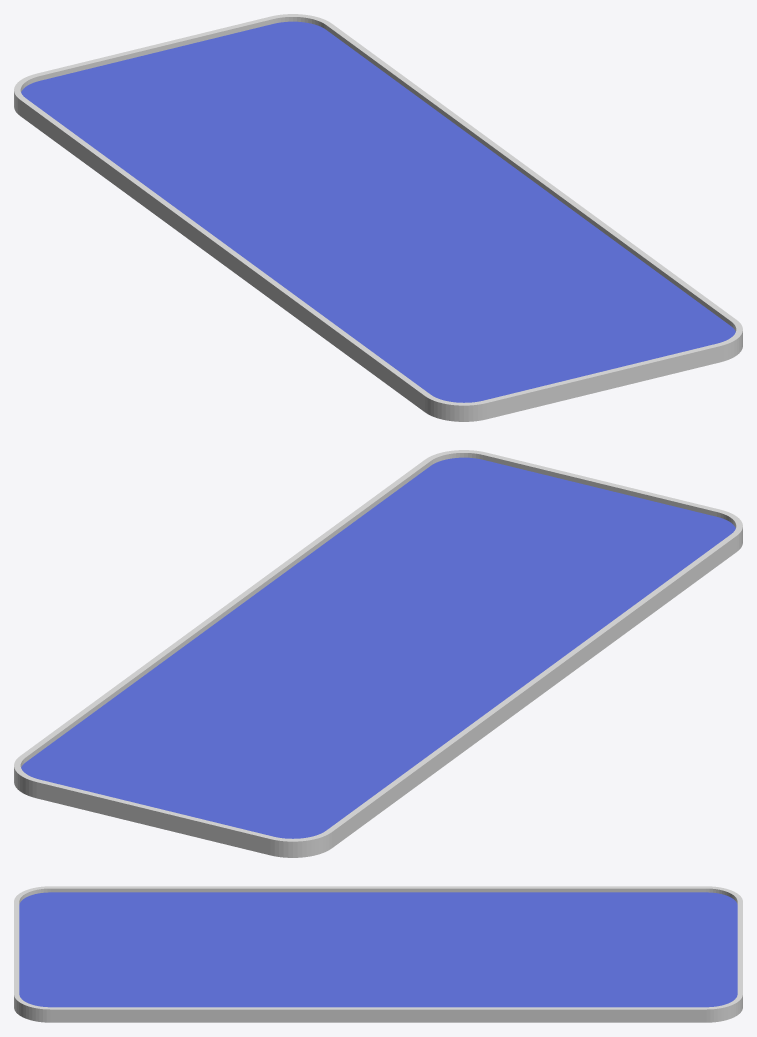
File: Panel2.fbx
The picture shows the model from 3 angles, top to bottom: view 1: azimuth 30°, elevation 25°; view 2: azimuth 150°, elevation 25°; view 3: azimuth 270°, elevation 25°; orthographic projection. The views are drawn at different scales.
Visible parts, largest first — view 1: Panel.001; view 2: Panel.001; view 3: Panel.001.
Part boxes in pixels (x1=…): Panel.001: x1=14, y1=14, x2=742, y2=421; Panel.001: x1=14, y1=450, x2=742, y2=857; Panel.001: x1=14, y1=886, x2=742, y2=1022.
Bounding box in the file's own units: 200 × 10 × 500.
